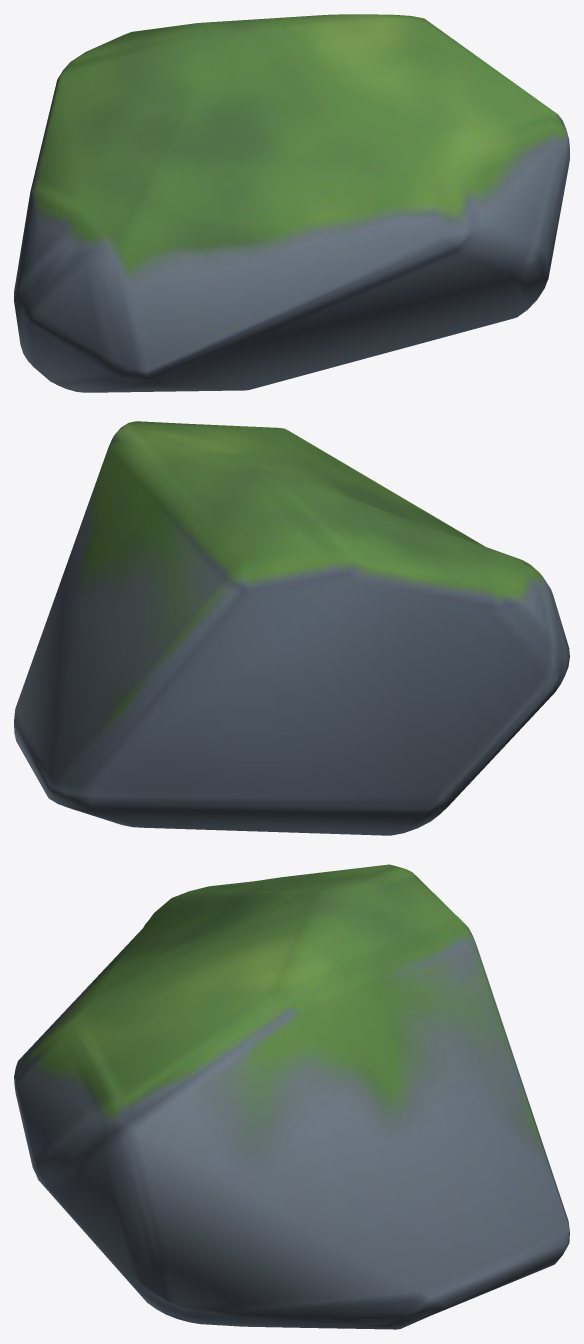
Rendered from rock_a.glb.
3 renders of one model, top to bottom at view 1: azimuth 30°, elevation 25°; view 2: azimuth 150°, elevation 25°; view 3: azimuth 270°, elevation 25°, orthographic. The views are drawn at different scales.
Visible parts, largest first — view 1: rock_a; view 2: rock_a; view 3: rock_a.
Part boxes in pixels (<box>): rock_a: <box>14,14,569,392</box>; rock_a: <box>14,421,569,835</box>; rock_a: <box>14,864,569,1329</box>.
Size of the model in its own units: 0.524 by 0.3413 by 0.4679.
1 material, 1 textured.
